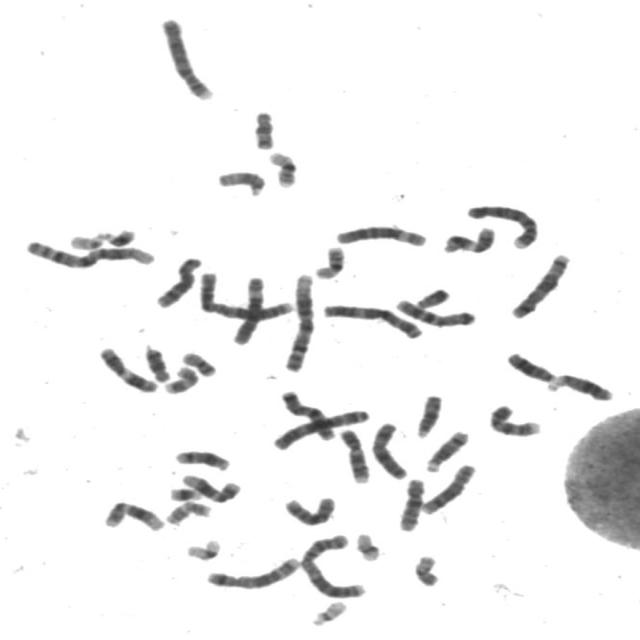A1: (21, 235, 160, 270), (280, 268, 318, 373)
A2: (193, 267, 298, 322), (297, 530, 370, 600)
A3: (269, 404, 374, 450), (318, 298, 427, 340)
B4: (156, 12, 217, 101), (461, 199, 543, 250)
B5: (506, 248, 575, 320), (202, 552, 304, 591)
C10: (279, 491, 340, 527), (394, 473, 430, 533)
C11: (94, 342, 162, 394), (438, 222, 499, 255)
C12: (177, 469, 245, 504), (100, 497, 168, 532)
C6: (227, 271, 269, 345), (331, 220, 431, 248)
C7: (276, 386, 338, 442), (390, 294, 480, 329)
C8: (417, 459, 480, 516), (151, 252, 206, 310)
C9: (484, 399, 545, 438), (335, 425, 374, 484)
D13: (547, 368, 617, 402), (502, 347, 561, 385)
D14: (421, 425, 473, 473), (170, 444, 233, 472)
D15: (212, 164, 270, 197), (411, 389, 447, 439)
E16: (263, 146, 301, 188), (310, 241, 348, 280)
E17: (162, 496, 214, 526), (159, 361, 202, 395)
E18: (140, 340, 175, 382), (249, 104, 279, 150)
F19: (181, 534, 225, 562), (352, 528, 385, 562)
F20: (409, 550, 444, 588), (177, 347, 220, 377)
G21: (99, 223, 140, 248), (164, 482, 204, 503)
G22: (307, 596, 350, 627), (64, 229, 109, 251)
X: (368, 416, 412, 481)
Y: (412, 283, 454, 310)
